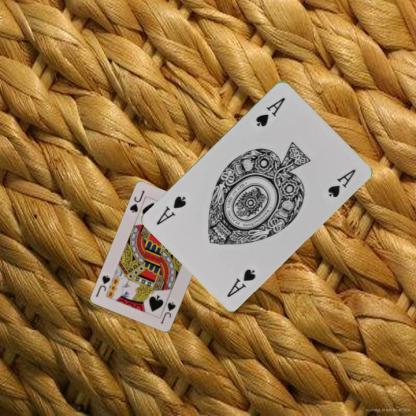As: (253, 94, 287, 128), (224, 266, 257, 298)
Js: (158, 300, 177, 326), (127, 188, 146, 214)
